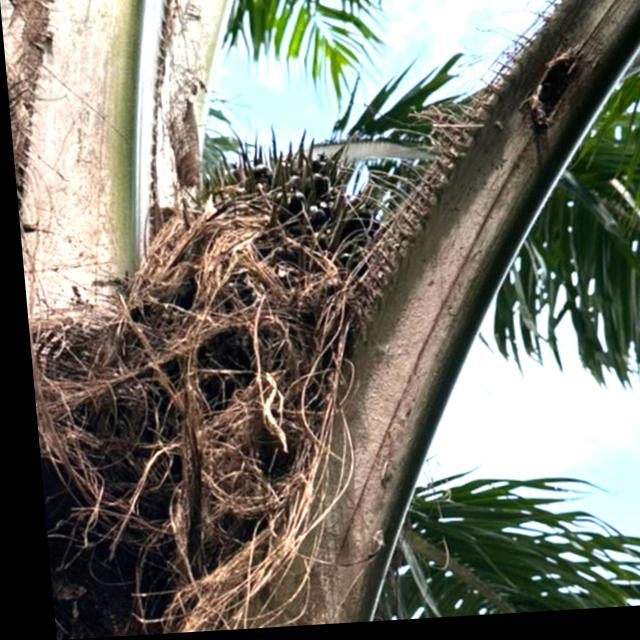unripe: (96, 116, 415, 439)
